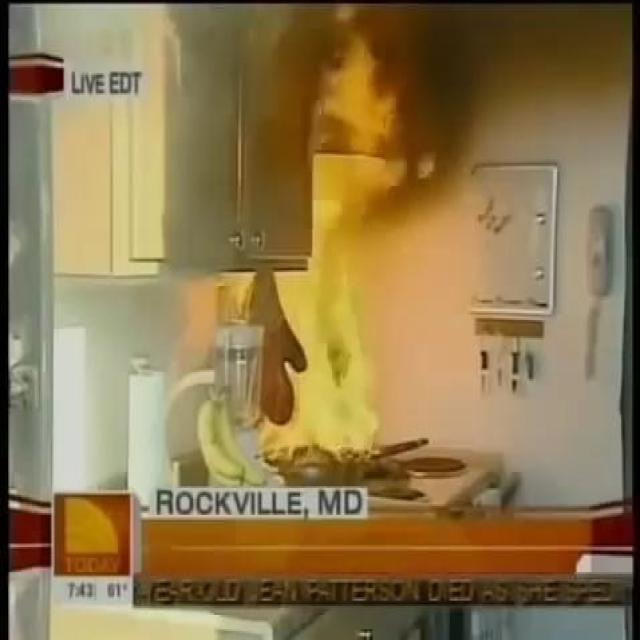smoke: (246, 156, 390, 467)
